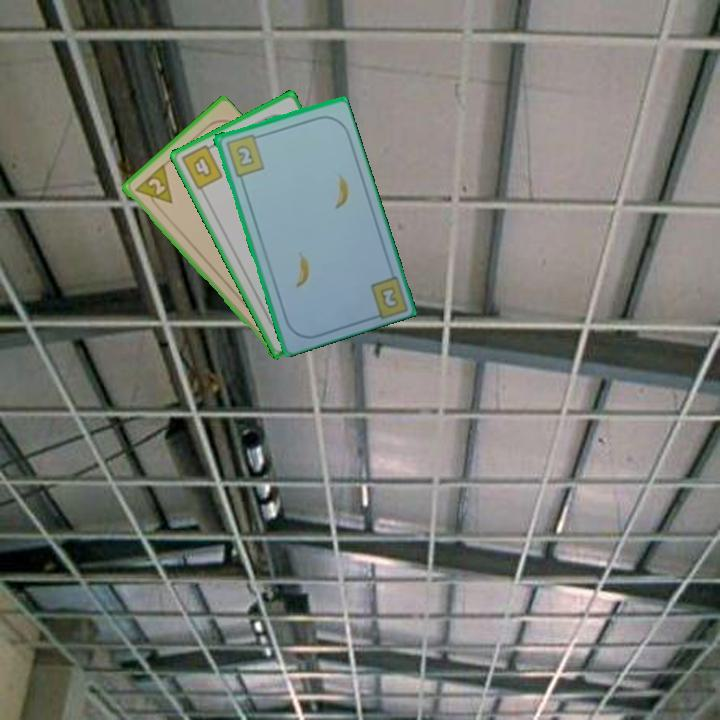2b: (222, 130, 267, 179), (376, 283, 399, 311)
2p: (131, 162, 175, 214)
4b: (177, 140, 226, 192)
